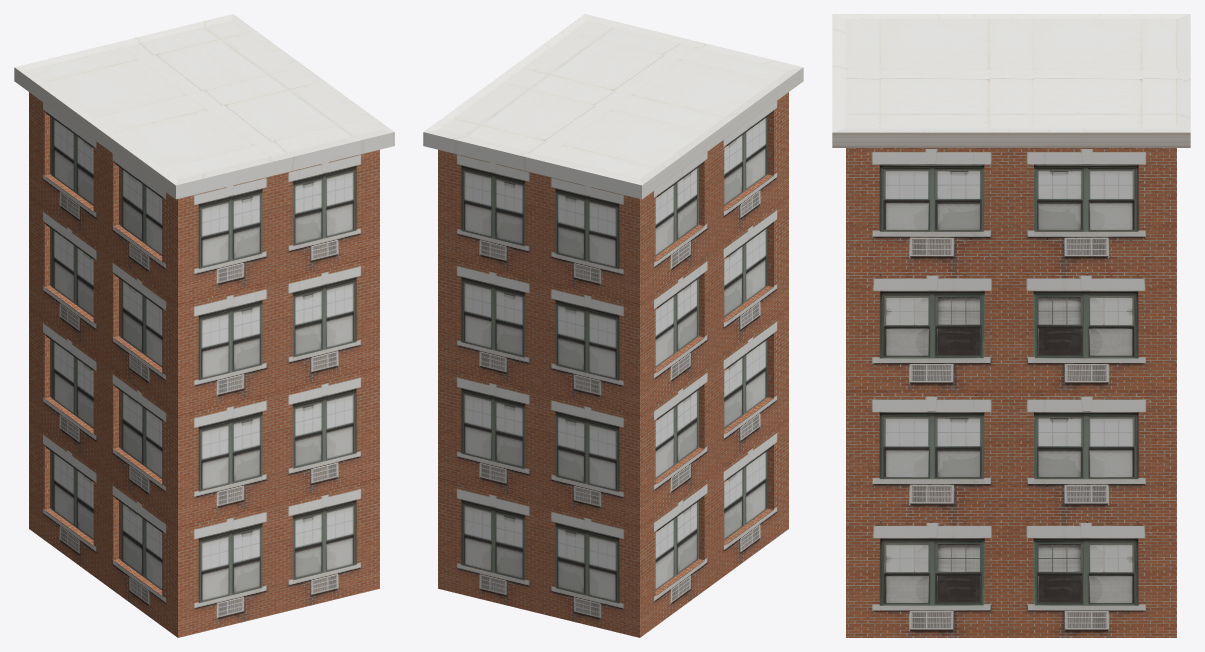
File: building02.fbx
The picture shows the model from 3 angles, left to right: view 1: azimuth 30°, elevation 25°; view 2: azimuth 150°, elevation 25°; view 3: azimuth 270°, elevation 25°; orthographic projection. The views are drawn at different scales.
Visible parts, largest first — view 1: building02; view 2: building02; view 3: building02.
Part boxes in pixels (x1,y1,x2,y2): building02: [14, 14, 394, 637]; building02: [423, 14, 803, 637]; building02: [832, 14, 1190, 637].
Size of the model in its own units: 84.92 by 170 by 109.
